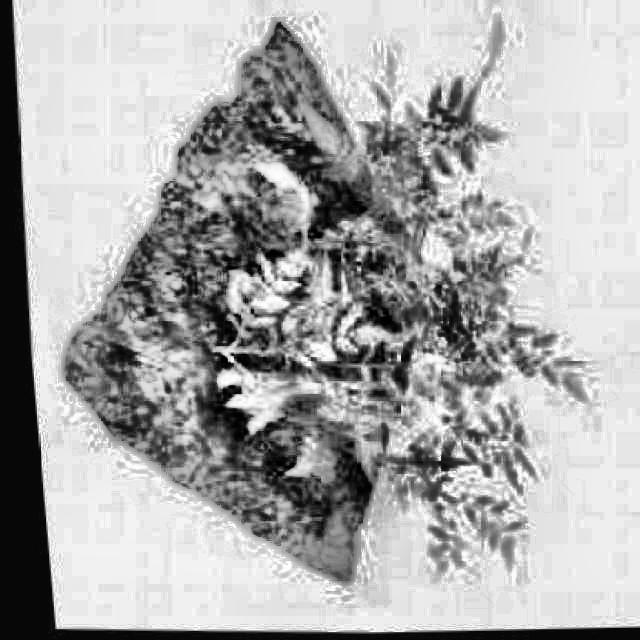plants: (83, 29, 639, 586)
